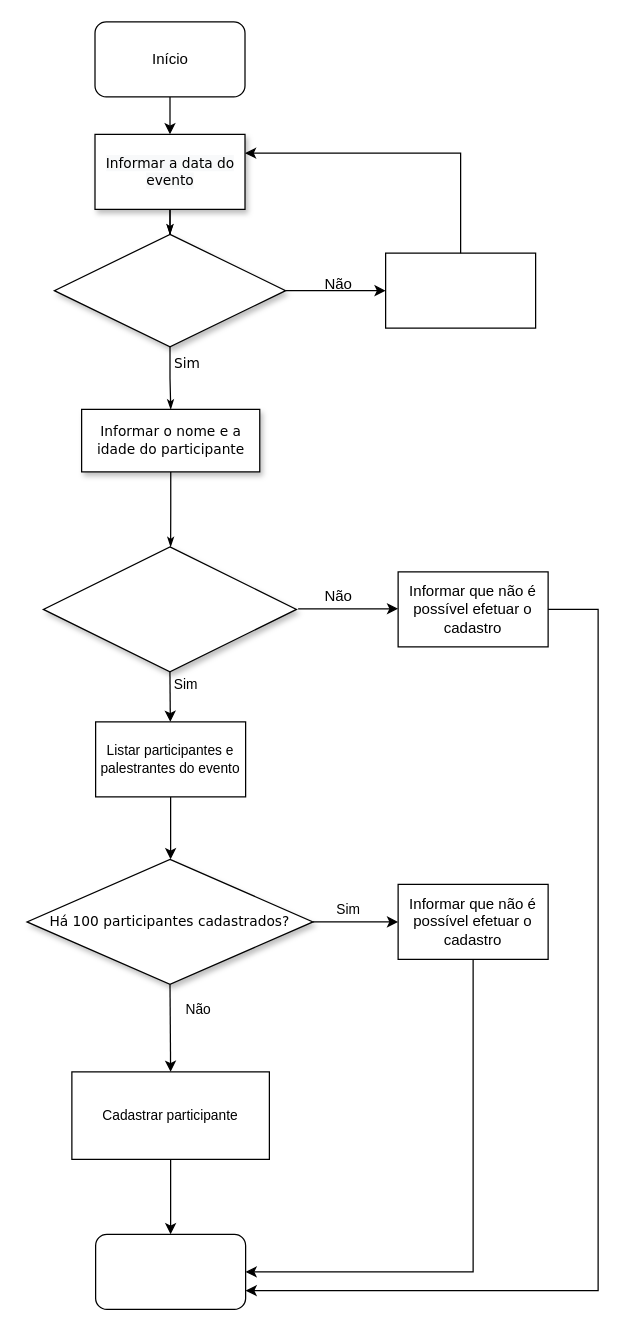
The diagram is 630 pixels wide and 1331 high, and some of its shapes have lost their labels. Here are the shapes that lost their labels. From the top down, the centre of each, then its label:
At (170,292): "Data do evento é posterior a data atual?".
At (460,290): "Informar que a data é inválida".
At (170,611): "Idade é maior que 18 anos?".
At (170,1271): "Fim".
